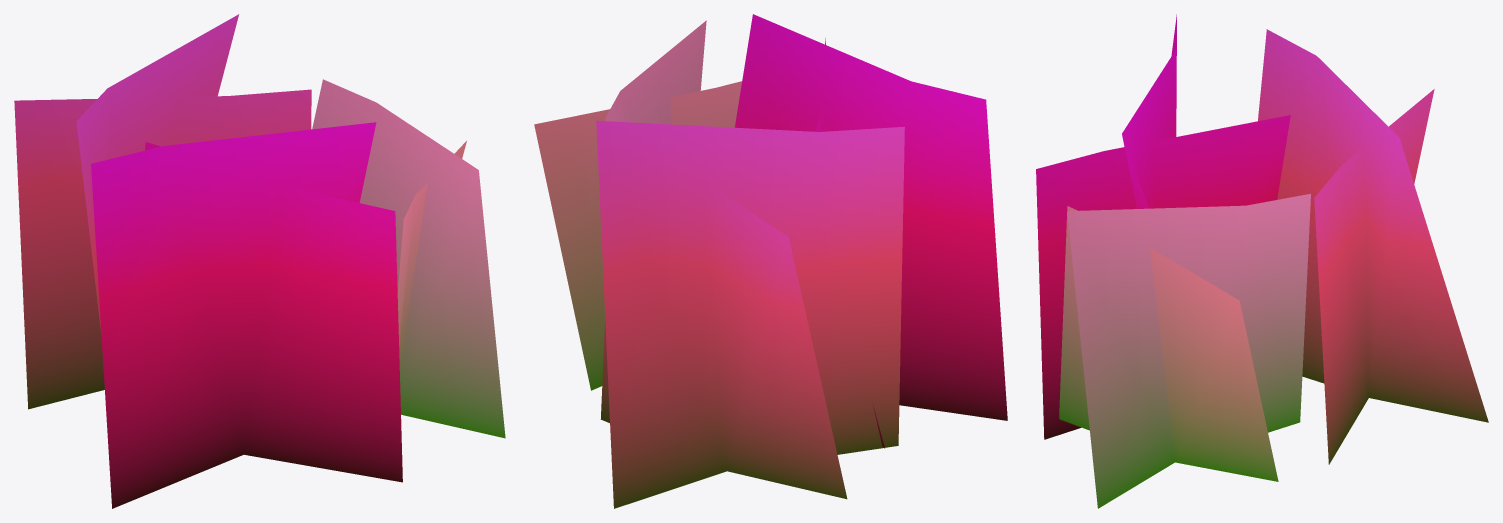
Rendered from SM Grass Slightly Spherical.fbx.
3 renders of one model, left to right at view 1: azimuth 30°, elevation 25°; view 2: azimuth 150°, elevation 25°; view 3: azimuth 270°, elevation 25°, orthographic. The views are drawn at different scales.
Visible parts, largest first — view 1: GrassRGB_Small_mediumSpherical02; view 2: GrassRGB_Small_mediumSpherical02; view 3: GrassRGB_Small_mediumSpherical02.
Boxes of the visible parts, x1,y1,x2,y2 form: GrassRGB_Small_mediumSpherical02: (14,14,505,508); GrassRGB_Small_mediumSpherical02: (534,14,1007,508); GrassRGB_Small_mediumSpherical02: (1036,14,1488,508).
Bounding box in the file's own units: 86.43 × 86.68 × 67.74.
